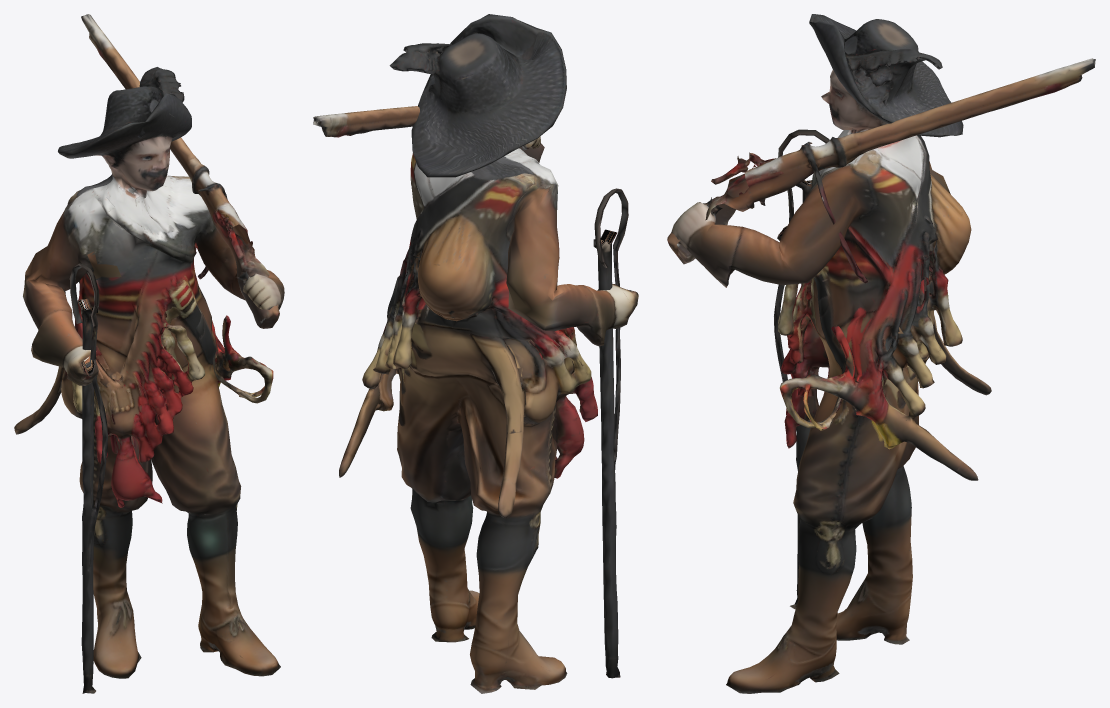
The model's file is MUSKETEER_GER_Def.glb.
3 views of the same model, side by side, from view 1: azimuth 30°, elevation 25°; view 2: azimuth 150°, elevation 25°; view 3: azimuth 270°, elevation 25° (orthographic). The views are drawn at different scales.
Parts seen in each view (by area): view 1: Mesh0.010; view 2: Mesh0.010; view 3: Mesh0.010.
Boxes of the visible parts, <box> form: Mesh0.010: <box>14,14,284,693</box>; Mesh0.010: <box>313,14,638,693</box>; Mesh0.010: <box>667,14,1095,693</box>.
Size of the model in its own units: 0.7875 by 2.02 by 1.24.
Materials: 1 (1 with a texture image).
